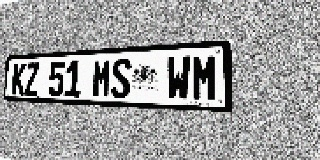1: (64, 61, 81, 97)
5: (49, 61, 65, 97)
K: (12, 63, 26, 95)
M: (191, 54, 218, 101), (92, 59, 111, 98)
S: (111, 58, 131, 99)
W: (166, 55, 191, 101)
Z: (25, 63, 39, 96)
